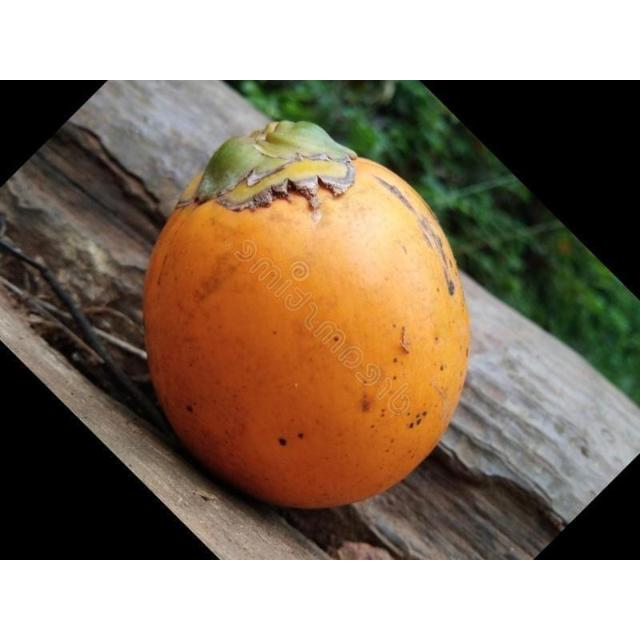good: (142, 122, 472, 513)
